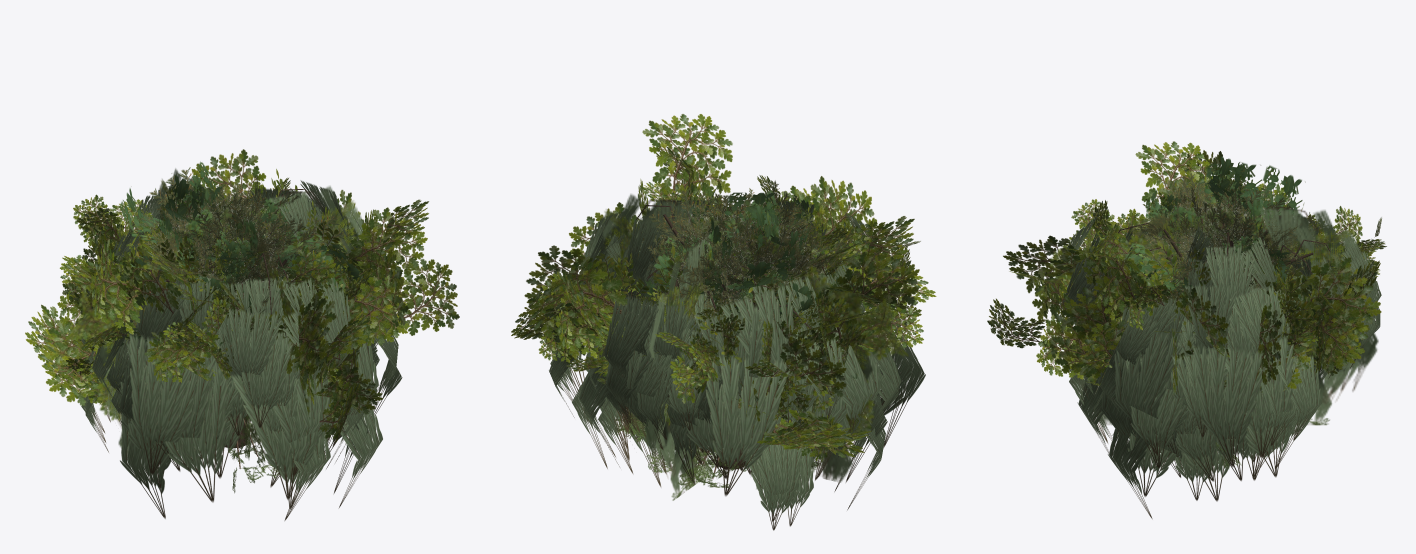
Rendered from trees-temperate.glb.
3 views of the same model, side by side, from view 1: azimuth 30°, elevation 25°; view 2: azimuth 150°, elevation 25°; view 3: azimuth 270°, elevation 25° (orthographic). The views are drawn at different scales.
Parts seen in each view (by area): view 1: oak_mid_tree, willow_mid_tree, willow_tree, oak_tree, pine_mid_tree, alder_mid_tree, oak_far_tree, pine_tree, beech_mid_tree, willow_far_tree, alder_tree, pine_far_tree (+5 smaller); view 2: oak_mid_tree, willow_tree, willow_mid_tree, oak_tree, willow_far_tree, pine_mid_tree, alder_mid_tree, oak_far_tree, pine_tree, beech_mid_tree, beech_tree, fir_tree (+6 smaller); view 3: oak_mid_tree, willow_mid_tree, willow_tree, oak_tree, willow_far_tree, alder_mid_tree, pine_mid_tree, pine_tree, beech_mid_tree, oak_far_tree, pine_far_tree, alder_tree (+3 smaller).
Part boxes in pixels (left/top/right/bottom): oak_mid_tree: left=25, top=149, right=459, bottom=442; willow_mid_tree: left=91, top=215, right=402, bottom=520; willow_tree: left=78, top=180, right=386, bottom=452; oak_tree: left=42, top=178, right=398, bottom=419; pine_mid_tree: left=140, top=167, right=351, bottom=317; alder_mid_tree: left=100, top=161, right=366, bottom=356; oak_far_tree: left=65, top=179, right=358, bottom=433; pine_tree: left=139, top=190, right=315, bottom=297; beech_mid_tree: left=112, top=169, right=371, bottom=366; willow_far_tree: left=99, top=168, right=365, bottom=477; alder_tree: left=156, top=201, right=288, bottom=296; pine_far_tree: left=153, top=204, right=278, bottom=280; oak_mid_tree: left=511, top=114, right=936, bottom=457; willow_tree: left=549, top=199, right=881, bottom=530; willow_mid_tree: left=545, top=278, right=925, bottom=510; oak_tree: left=534, top=175, right=923, bottom=462; willow_far_tree: left=585, top=194, right=872, bottom=494; pine_mid_tree: left=649, top=180, right=851, bottom=330; alder_mid_tree: left=636, top=184, right=859, bottom=383; oak_far_tree: left=601, top=197, right=908, bottom=438; pine_tree: left=637, top=188, right=822, bottom=330; beech_mid_tree: left=547, top=183, right=833, bottom=362; beech_tree: left=631, top=207, right=826, bottom=364; fir_tree: left=640, top=212, right=819, bottom=487; oak_mid_tree: left=987, top=141, right=1381, bottom=394; willow_mid_tree: left=1069, top=216, right=1330, bottom=519; willow_tree: left=1059, top=214, right=1381, bottom=477; oak_tree: left=1058, top=199, right=1386, bottom=389; willow_far_tree: left=1081, top=206, right=1378, bottom=424; alder_mid_tree: left=1115, top=155, right=1305, bottom=308; pine_mid_tree: left=1114, top=173, right=1325, bottom=306; pine_tree: left=1134, top=188, right=1297, bottom=292; beech_mid_tree: left=1083, top=186, right=1320, bottom=402; oak_far_tree: left=1035, top=212, right=1360, bottom=382; pine_far_tree: left=1129, top=207, right=1305, bottom=249; alder_tree: left=1146, top=190, right=1307, bottom=304.
Bounding box in the file's own units: 0.7925 × 0.912 × 0.8696.
Materials: 1 (1 with a texture image).
